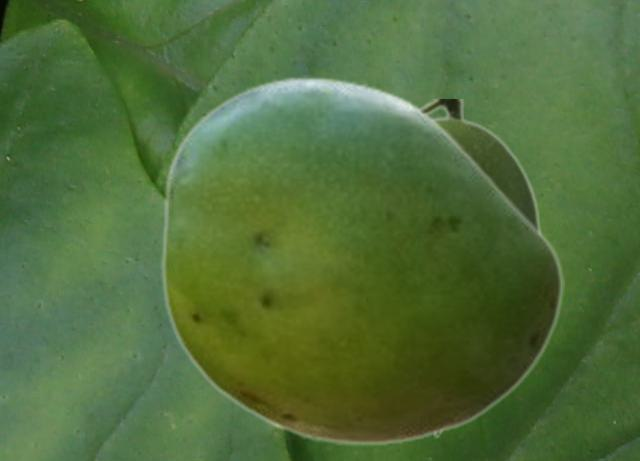green_mango: (160, 75, 563, 446), (418, 99, 541, 438)
